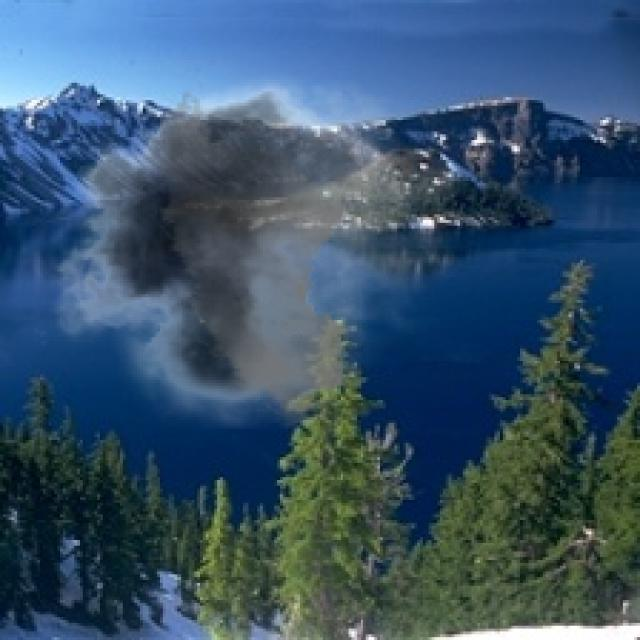smoke: (34, 60, 457, 429)
